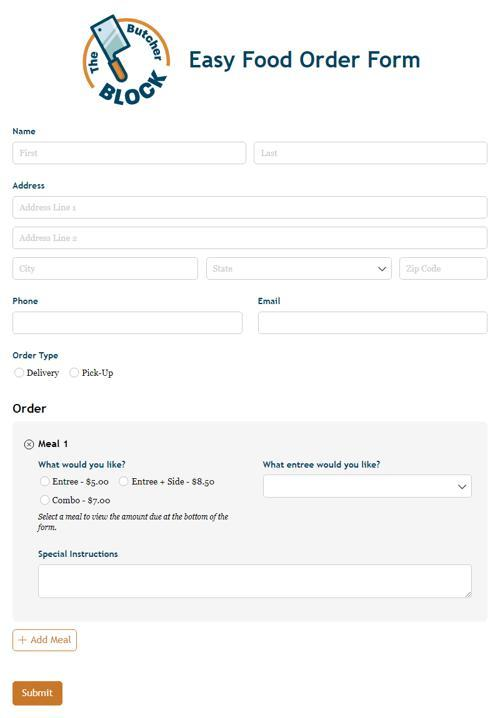button: (13, 630, 77, 651), (14, 682, 63, 705)
dropdown: (265, 475, 473, 499), (207, 259, 391, 279)
icon: (23, 439, 37, 453)
input: (39, 566, 470, 599), (13, 197, 488, 219), (14, 227, 488, 248), (13, 143, 247, 166), (254, 143, 488, 166), (13, 313, 243, 335), (259, 313, 489, 334), (14, 259, 199, 280), (401, 259, 488, 281)
label: (263, 460, 383, 473), (39, 551, 123, 563), (132, 477, 216, 488), (37, 461, 129, 470), (53, 496, 112, 509), (53, 477, 112, 488), (10, 351, 61, 360), (39, 439, 70, 452), (10, 182, 48, 192), (83, 368, 115, 379), (257, 297, 285, 309), (13, 126, 38, 138), (11, 297, 41, 307), (29, 371, 61, 379)
radio: (14, 367, 25, 380), (69, 367, 80, 380), (40, 496, 52, 507), (119, 477, 130, 488), (41, 478, 51, 487)
